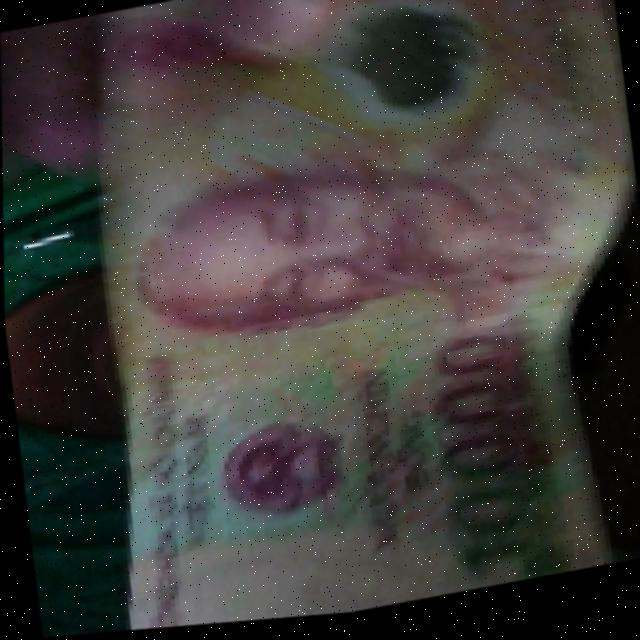10 000 VND: (38, 0, 640, 638)
